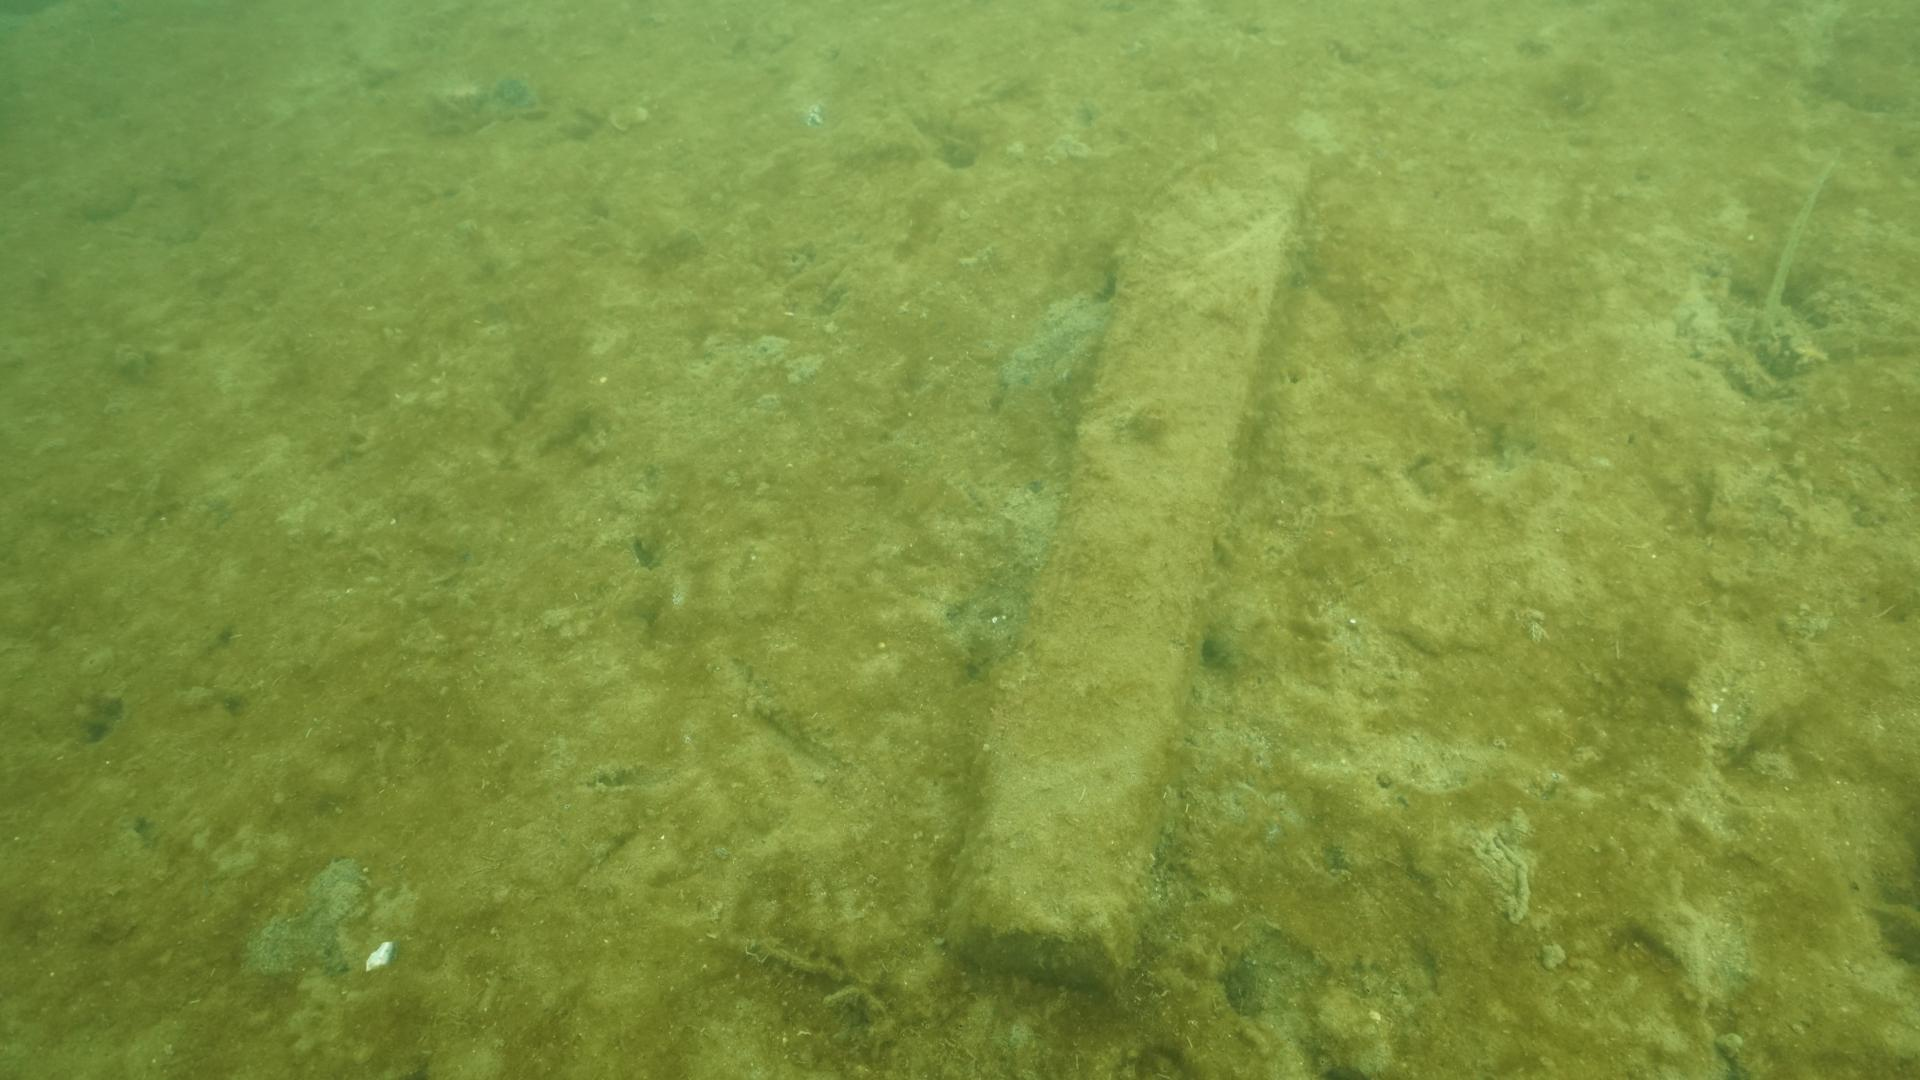wood: (928, 142, 1323, 1000)
